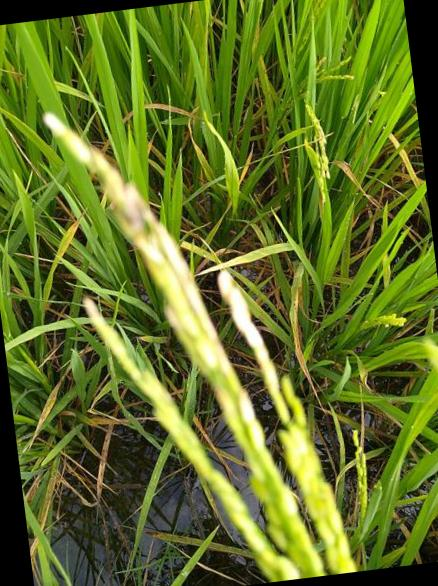Panicle Blight: (44, 114, 155, 236), (218, 272, 278, 382), (84, 298, 104, 327)
